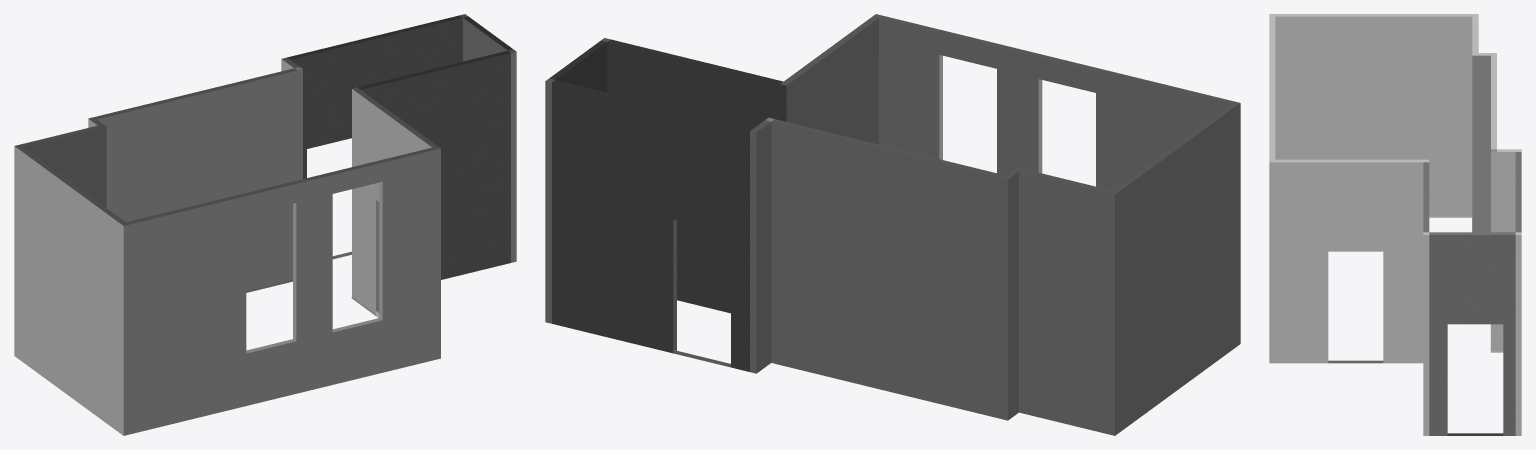
Rendered from Wall_439cd50f.obj.
3 views of the same model, side by side, from view 1: azimuth 30°, elevation 25°; view 2: azimuth 150°, elevation 25°; view 3: azimuth 270°, elevation 25° (orthographic). The views are drawn at different scales.
Visible parts, largest first — view 1: Wall_439cd50f; view 2: Wall_439cd50f; view 3: Wall_439cd50f.
Boxes of the visible parts, bbox=[...] form: Wall_439cd50f: bbox=[14, 14, 516, 435]; Wall_439cd50f: bbox=[545, 14, 1240, 435]; Wall_439cd50f: bbox=[1269, 14, 1521, 435].
Bounding box in the file's own units: 8.5 × 3.6 × 4.1.
